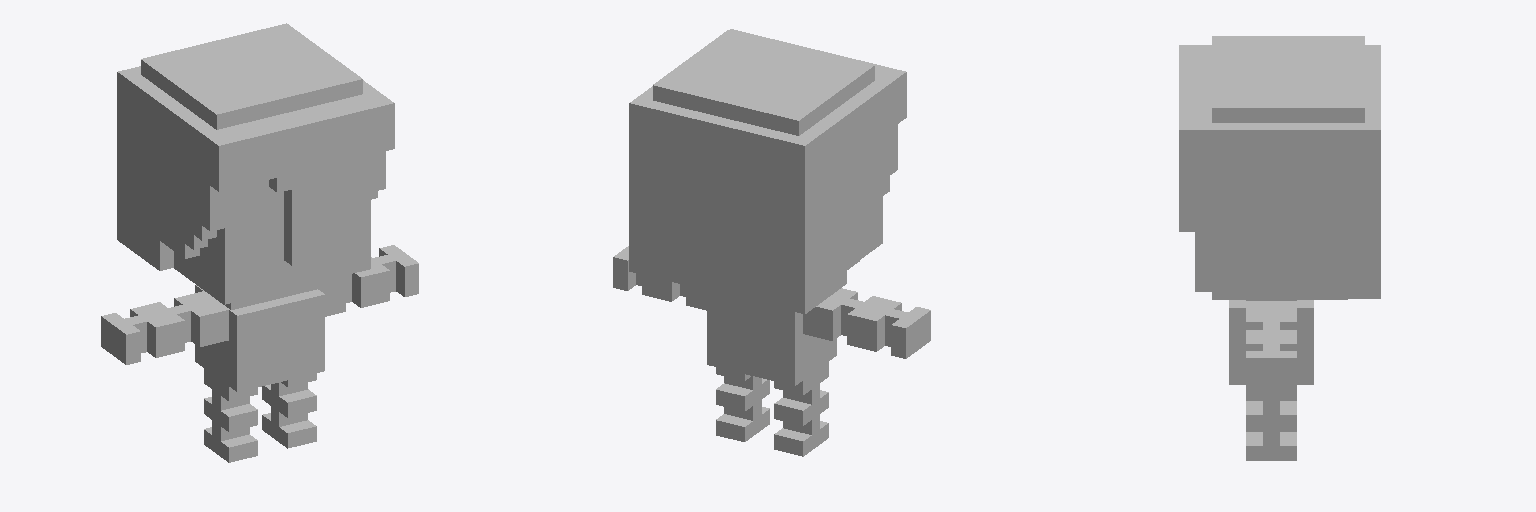
The model's file is Jacob.obj.
3 renders of one model, left to right at view 1: azimuth 30°, elevation 25°; view 2: azimuth 150°, elevation 25°; view 3: azimuth 270°, elevation 25°, orthographic.
Visible parts, largest first — view 1: object 1; view 2: object 1; view 3: object 1.
Part boxes in pixels (bbox=[...]): object 1: bbox=[101, 23, 418, 462]; object 1: bbox=[613, 29, 930, 456]; object 1: bbox=[1179, 36, 1380, 460].
Bounding box in the file's own units: 2 × 2.4 × 1.2.